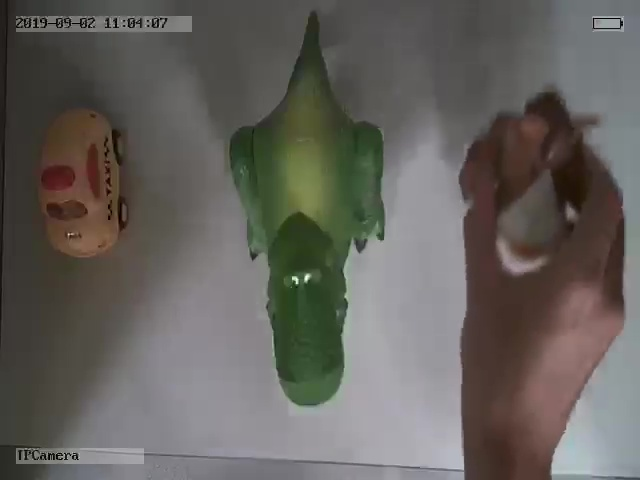car: (35, 102, 130, 257)
rex: (227, 10, 387, 409)
